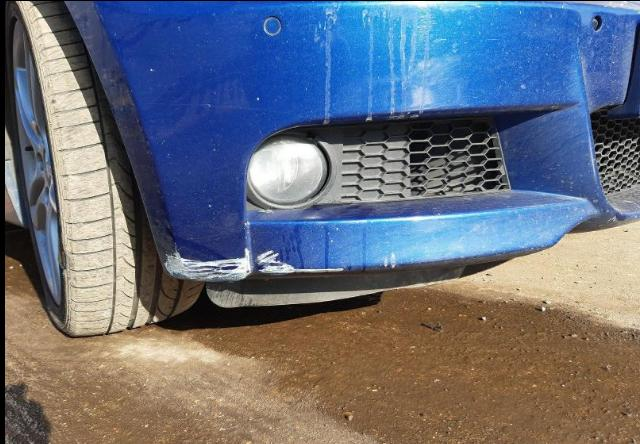Cracked: (247, 129, 337, 210)
Flaking: (361, 3, 439, 126), (324, 0, 342, 128), (313, 15, 325, 45)
Missing part: (592, 15, 602, 30)
Scratch: (164, 245, 252, 280), (255, 249, 343, 273)
